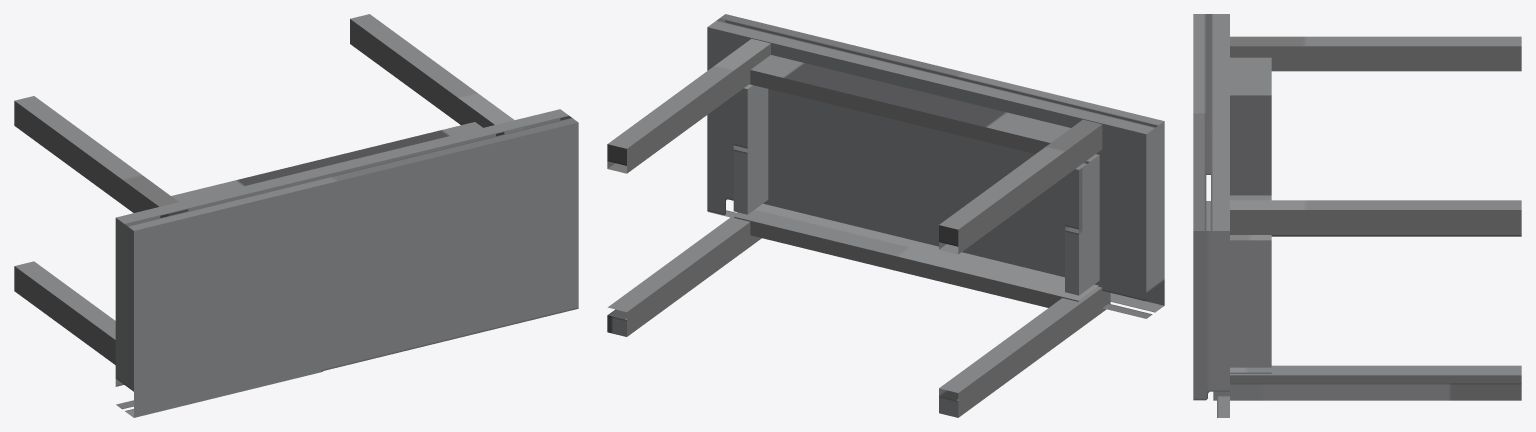
The picture shows the model from 3 angles, left to right: view 1: azimuth 30°, elevation 25°; view 2: azimuth 150°, elevation 25°; view 3: azimuth 270°, elevation 25°; orthographic projection.
Size of the model in its own units: 1.1 by 0.4512 by 0.7014.
